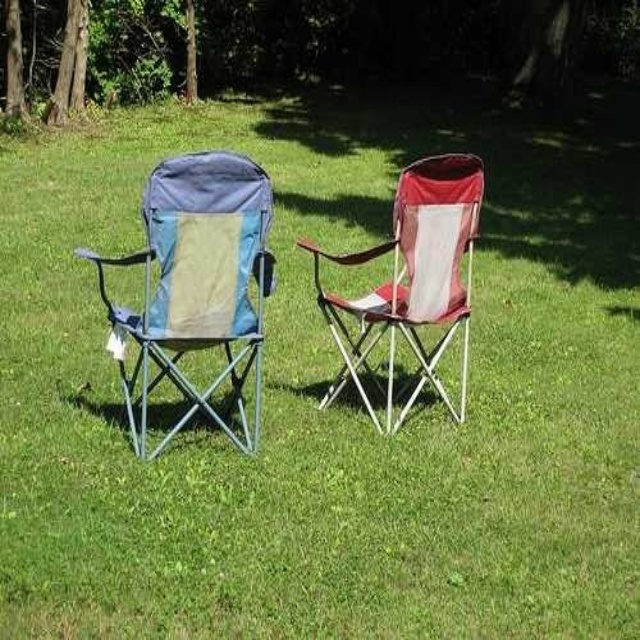obstacle: (76, 152, 271, 459), (298, 154, 483, 433)
